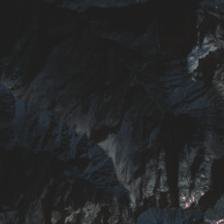landslides: (147, 2, 160, 24), (170, 17, 179, 32)
